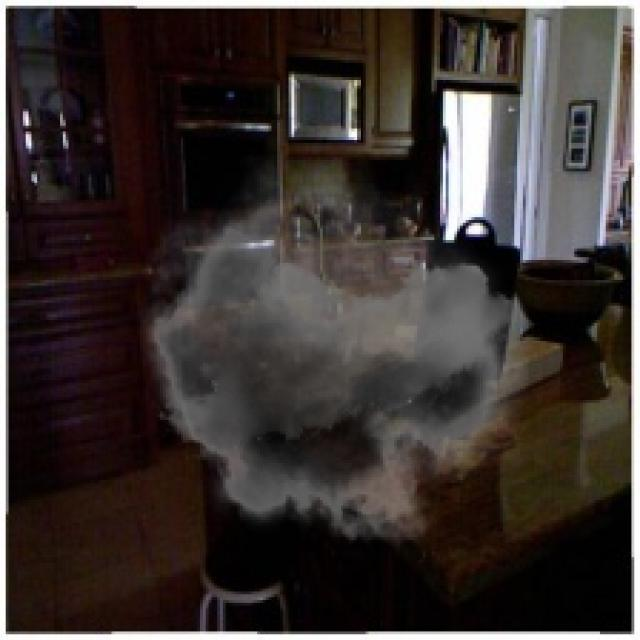Smoke: (122, 154, 528, 563)
